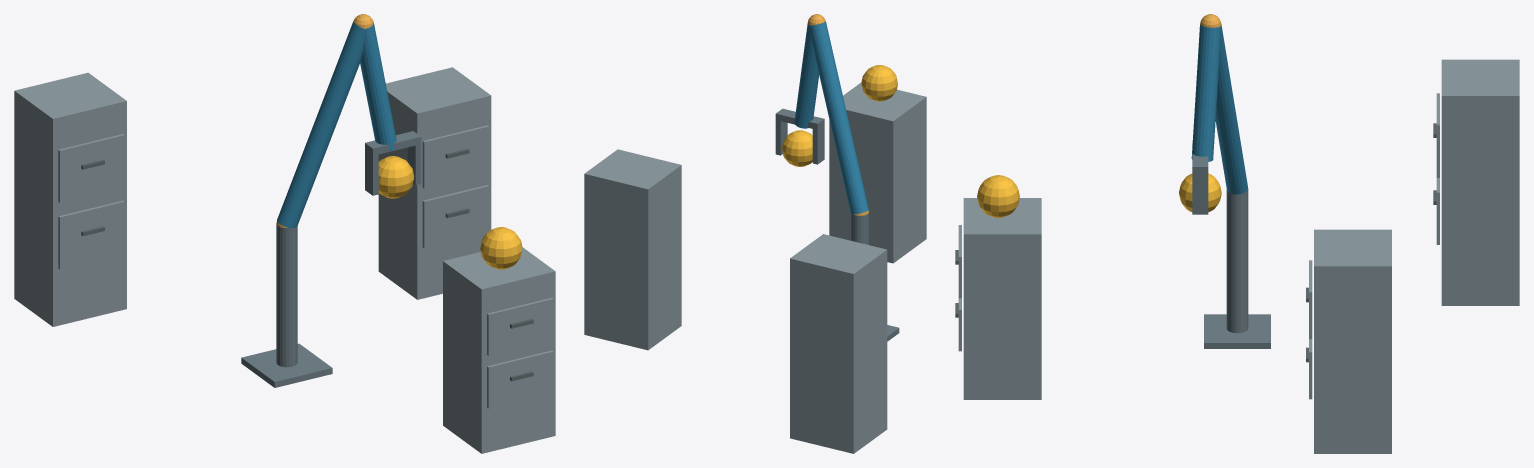
3 views of the same model, side by side, from view 1: azimuth 30°, elevation 25°; view 2: azimuth 150°, elevation 25°; view 3: azimuth 270°, elevation 25° (orthographic). The views are drawn at different scales.
Parts seen in each view (by area): view 1: cabinet_3 body, cabinet_1 body, cabinet_2 body, moving link 1, cabinet_3 drawer front.001, cabinet_3 drawer front, cabinet_2 drawer front.001, cabinet_2 drawer front, fixed post, cabinet_1 drawer front.001, cabinet_1 drawer front, moving link 2 (+5 smaller); view 2: cabinet_3 body, cabinet_2 body, cabinet_1 body, moving link 1, moving link 2, released ball_1, ball ball_2, fixed post, gripper finger -1, gripper bridge, gripper finger 1; view 3: cabinet_3 body, cabinet_2 body, cabinet_1 body, fixed post, moving link 2, moving link 1, pedestal, released ball_1, ball ball_2, gripper finger 1.
Boxes of the visible parts, bbox=[...] form: cabinet_3 body: bbox=[14, 72, 126, 326]; cabinet_1 body: bbox=[443, 247, 555, 453]; cabinet_2 body: bbox=[378, 67, 491, 299]; moving link 1: bbox=[277, 21, 365, 228]; cabinet_3 drawer front.001: bbox=[58, 134, 124, 202]; cabinet_3 drawer front: bbox=[58, 200, 124, 269]; cabinet_2 drawer front.001: bbox=[422, 125, 489, 188]; cabinet_2 drawer front: bbox=[422, 185, 489, 248]; fixed post: bbox=[276, 223, 297, 367]; cabinet_1 drawer front.001: bbox=[487, 298, 553, 355]; cabinet_1 drawer front: bbox=[487, 350, 553, 408]; moving link 2: bbox=[360, 22, 396, 150]; cabinet_3 body: bbox=[790, 234, 887, 453]; cabinet_2 body: bbox=[584, 149, 681, 350]; cabinet_1 body: bbox=[829, 82, 926, 263]; moving link 1: bbox=[810, 21, 868, 214]; moving link 2: bbox=[794, 22, 818, 128]; released ball_1: bbox=[861, 65, 897, 101]; ball ball_2: bbox=[782, 130, 812, 166]; fixed post: bbox=[851, 212, 869, 244]; gripper finger -1: bbox=[812, 125, 824, 164]; gripper bridge: bbox=[775, 108, 824, 129]; gripper finger 1: bbox=[775, 120, 787, 155]; cabinet_3 body: bbox=[1441, 59, 1519, 305]; cabinet_2 body: bbox=[1314, 229, 1391, 453]; cabinet_1 body: bbox=[963, 198, 1041, 399]; fixed post: bbox=[1226, 189, 1248, 333]; moving link 2: bbox=[1191, 24, 1220, 161]; moving link 1: bbox=[1215, 24, 1247, 194]; pedestal: bbox=[1204, 314, 1270, 348]; released ball_1: bbox=[977, 175, 1019, 217]; ball ball_2: bbox=[1179, 173, 1221, 212]; gripper finger 1: bbox=[1192, 174, 1208, 214].
Size of the model in its own units: 1.62 by 1.44 by 2.1.
